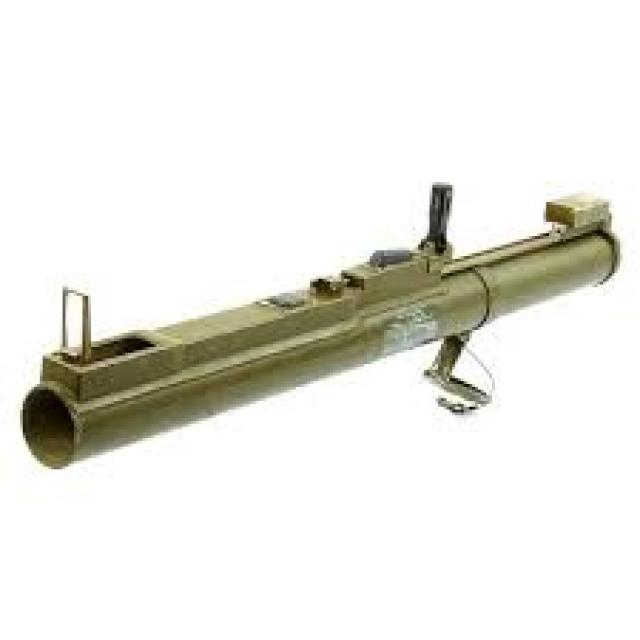bazooka: (9, 176, 629, 480)
